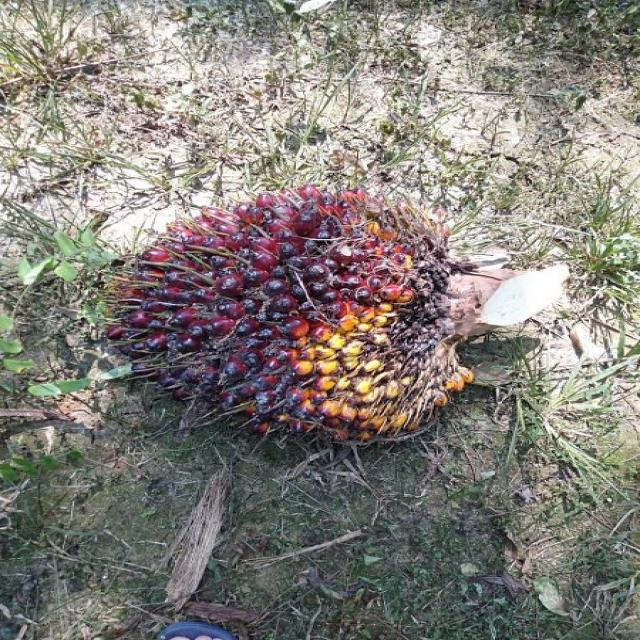fraksi 1: (51, 147, 545, 514)
